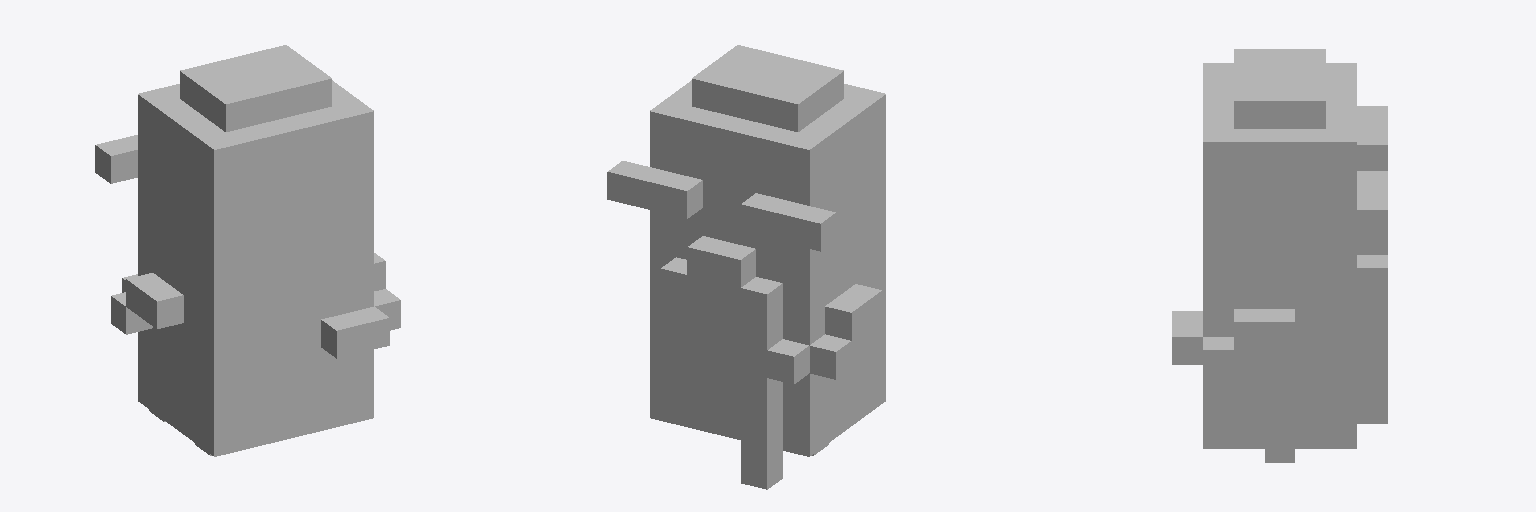
File: oldman.obj
The picture shows the model from 3 angles: view 1: azimuth 30°, elevation 25°; view 2: azimuth 150°, elevation 25°; view 3: azimuth 270°, elevation 25°; orthographic projection.
Parts seen in each view (by area): view 1: oldman; view 2: oldman; view 3: oldman.
Boxes of the visible parts, x1,y1,x2,y2 form: oldman: [95, 45, 400, 456]; oldman: [607, 45, 885, 489]; oldman: [1172, 49, 1387, 462].
Bounding box in the file's own units: 8 × 13 × 7.